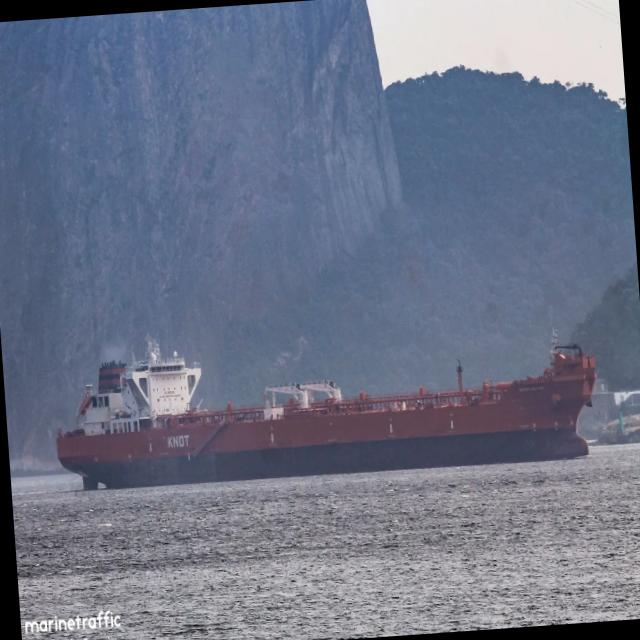Tanker: (56, 331, 596, 489)
